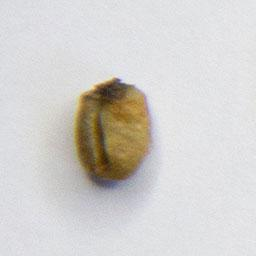defect: (72, 75, 156, 184)
